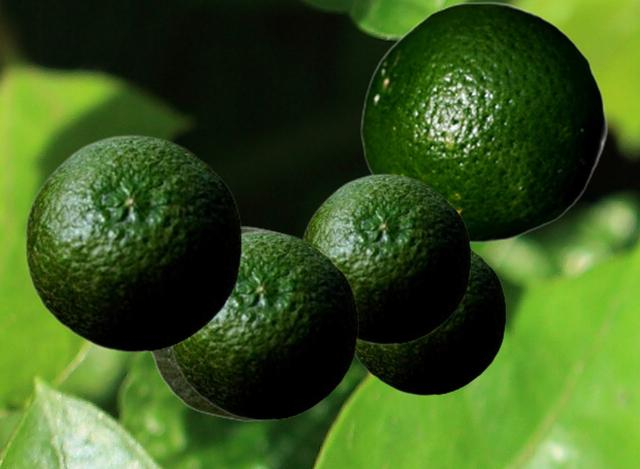calamansi: (360, 1, 607, 242), (24, 134, 241, 352), (169, 230, 357, 420), (302, 173, 470, 344), (148, 226, 291, 420), (355, 246, 505, 395)
